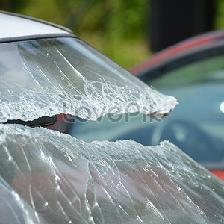broken_glass: (0, 20, 224, 224)
